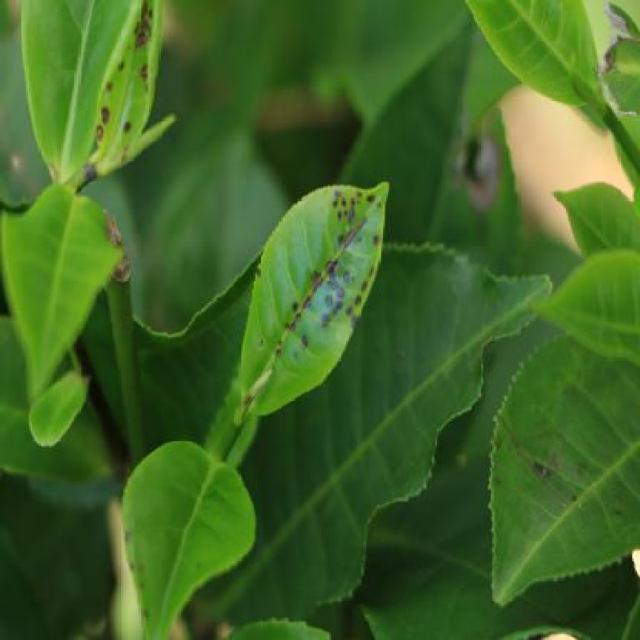Tea Mosquito bug infested leaf: (220, 152, 388, 418), (85, 0, 157, 185)
